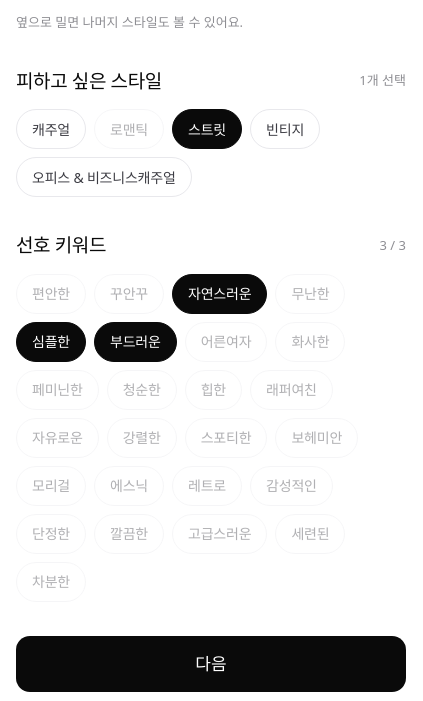
Test: user feature screens › blocks progress when an exact-three keyword signal becomes incomplete
(page scrolled)
What coordinates should you click on to do the following:
click the button "부드러운"
I would click on:
 (135, 342)
Its box is [94, 322, 177, 362].
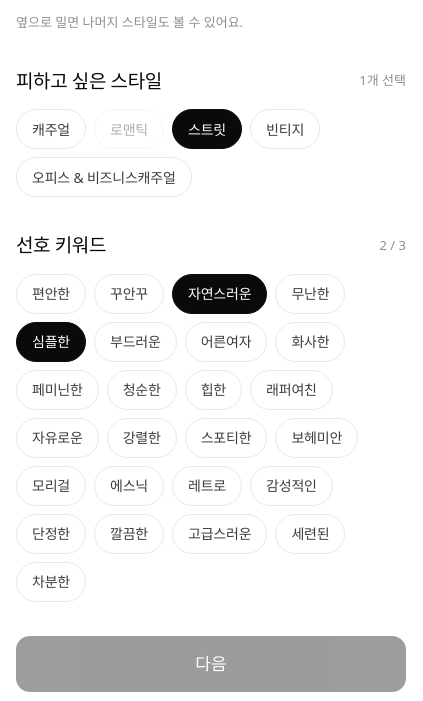
Check: the button "다음" is disabled, box [16, 636, 406, 692]
